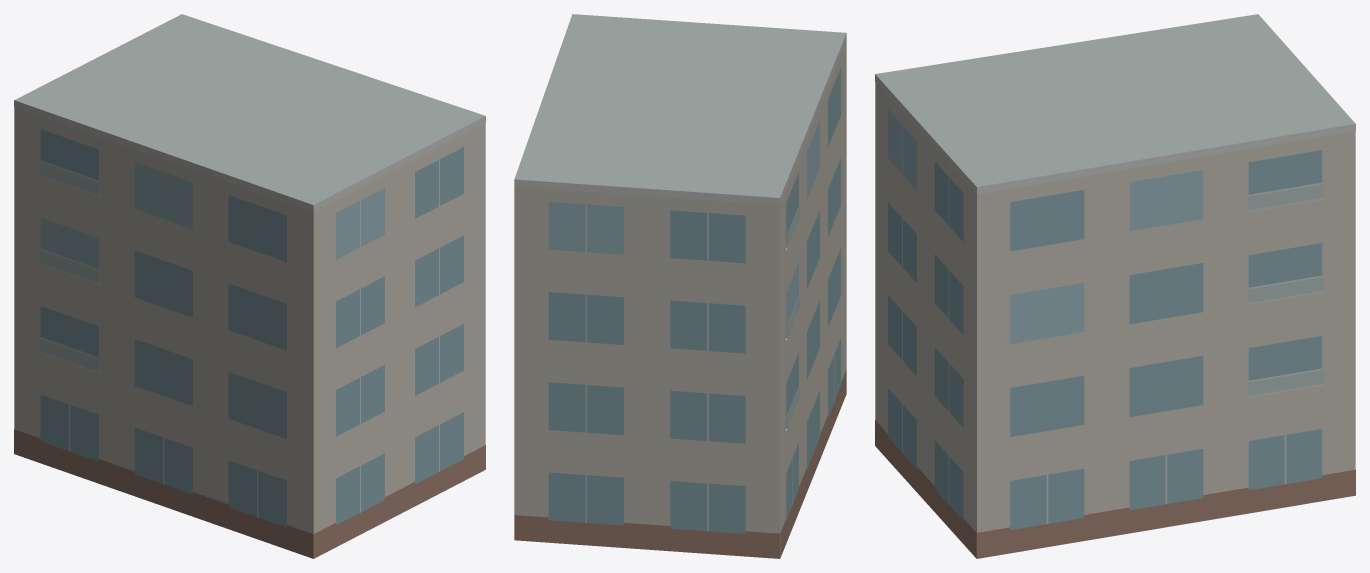
The model's file is survey-upis-32983131.glb.
3 views of the same model, side by side, from view 1: azimuth 30°, elevation 25°; view 2: azimuth 150°, elevation 25°; view 3: azimuth 270°, elevation 25° (orthographic). The views are drawn at different scales.
Visible parts, largest first — view 1: survey-upis-32983131.tmp; view 2: survey-upis-32983131.tmp; view 3: survey-upis-32983131.tmp.
Boxes of the visible parts, <box> form: survey-upis-32983131.tmp: <box>14,14,485,558</box>; survey-upis-32983131.tmp: <box>514,14,846,558</box>; survey-upis-32983131.tmp: <box>875,14,1355,558</box>.
Size of the model in its own units: 12.24 by 12.25 by 14.36.
